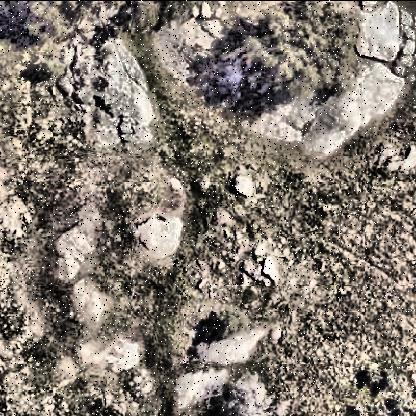tree-top: (241, 2, 369, 103), (8, 1, 119, 53), (358, 364, 416, 416), (206, 375, 278, 416), (203, 296, 251, 335)
